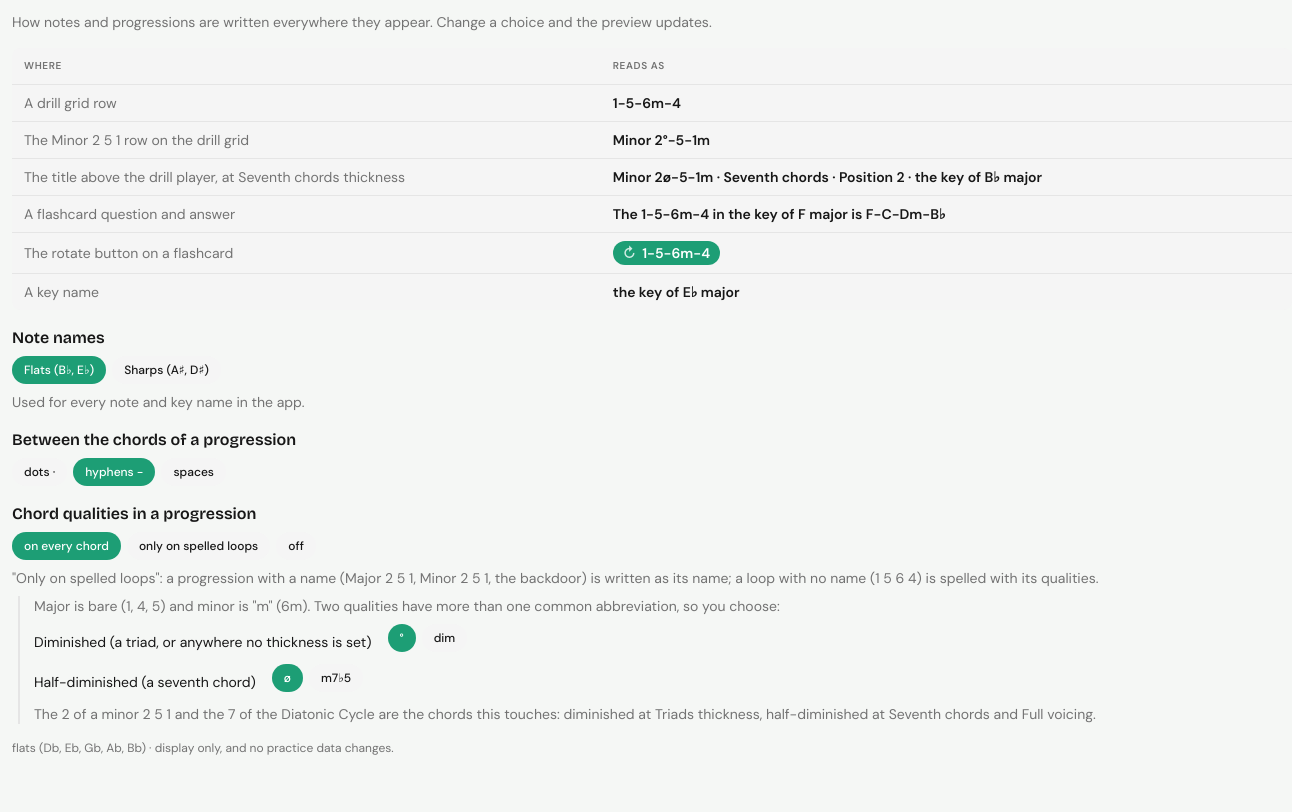
every control moves the preview › follows the two half-diminished names
The width and height of the screenshot is (1292, 812).
Click the button "dim" at (444, 638), box [422, 624, 467, 652]
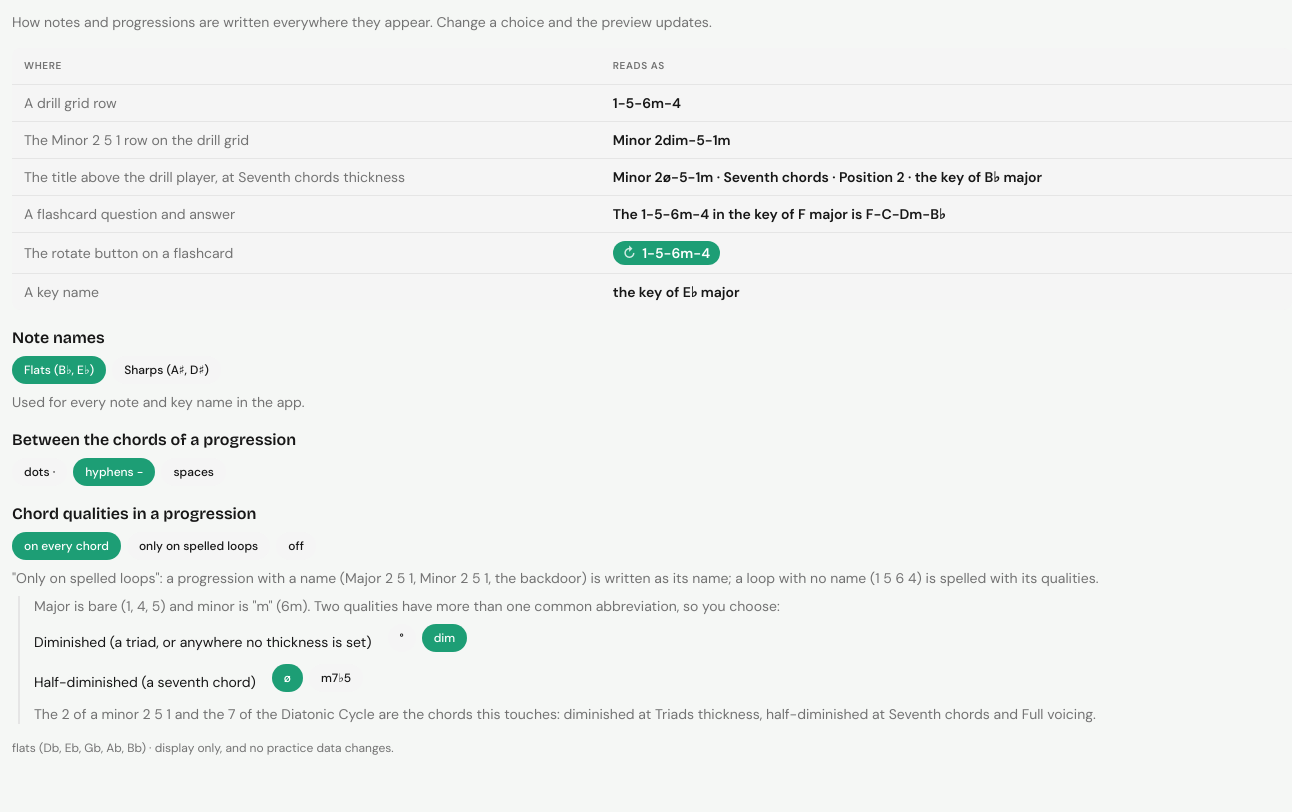
Now the cell with test id "spelling-preview-cell" reads "Minor 2dim-5-1m", box [613, 131, 731, 149]
Click the button "m7♭5" at (336, 678), box [309, 664, 363, 692]
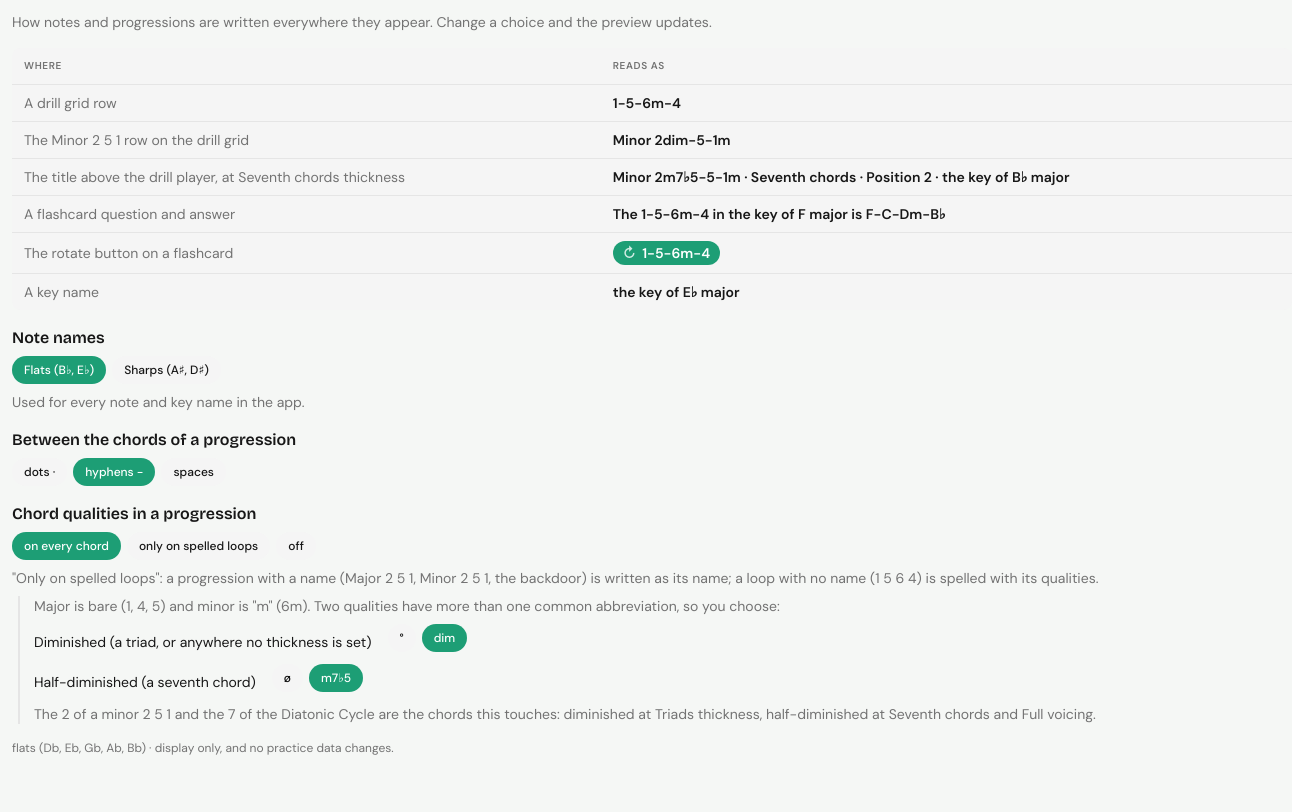
Now the cell with test id "spelling-preview-cell" shows "Minor 2m7♭5-5-1m", box [613, 168, 1070, 186]
